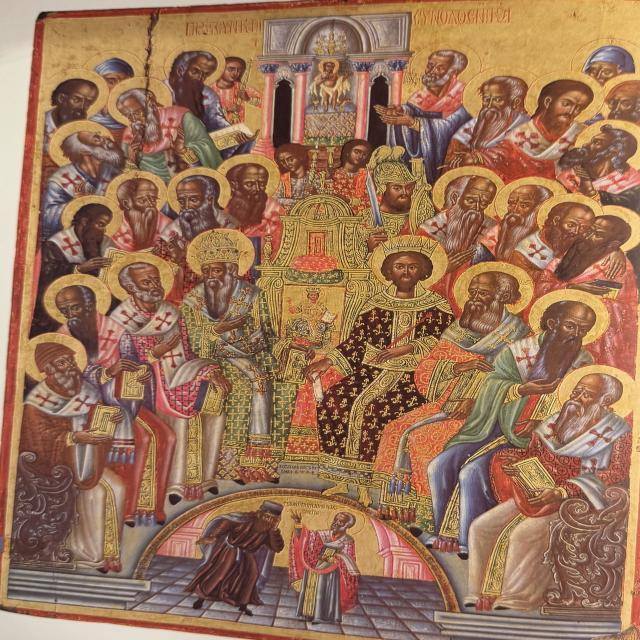aura: (527, 289, 610, 346), (555, 365, 638, 419), (526, 72, 606, 128), (452, 263, 534, 316), (371, 236, 451, 290), (464, 67, 538, 119), (435, 165, 505, 219), (407, 45, 485, 92), (44, 273, 112, 325), (186, 229, 256, 279), (496, 171, 564, 221), (110, 77, 176, 127), (110, 253, 176, 302), (25, 333, 91, 382), (170, 166, 232, 218), (51, 123, 121, 169), (47, 69, 110, 119), (536, 190, 604, 236), (160, 41, 228, 87), (108, 172, 169, 219), (63, 196, 124, 242), (220, 156, 280, 202), (591, 200, 640, 254), (318, 59, 344, 77)
book: (506, 453, 566, 505), (274, 342, 319, 392), (200, 124, 261, 153), (85, 402, 125, 444), (199, 383, 233, 426), (119, 365, 152, 402), (322, 310, 341, 328)
christ_child: (304, 57, 360, 115)
crown: (191, 231, 246, 269), (379, 236, 445, 258)
scepter: (361, 310, 439, 366)
shield: (405, 184, 437, 234)
sword: (363, 170, 389, 238)
